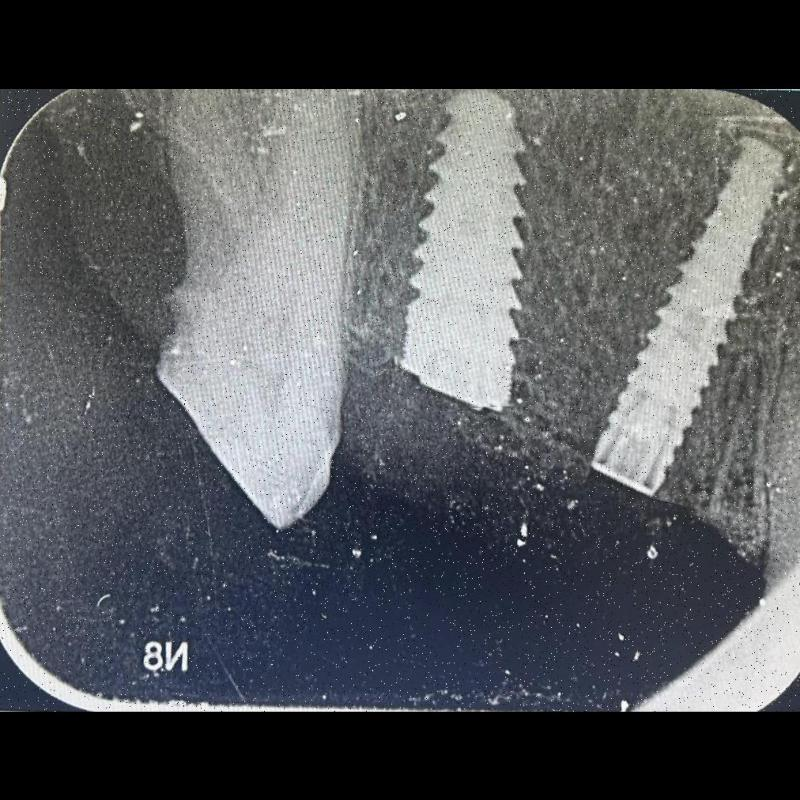osstem: (608, 112, 786, 508), (387, 89, 540, 409)
